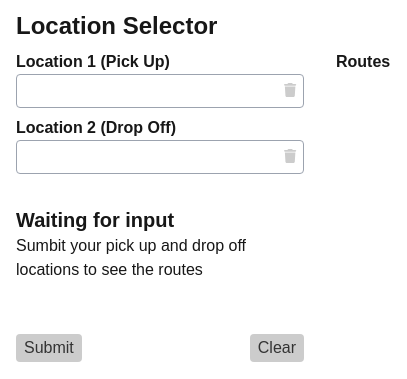
Test: Home › display info of success
Step 1. Type "Location A" into the field named "location_0" below "Location 1 (Pick Up)" → (160,91), box [16, 74, 304, 108]
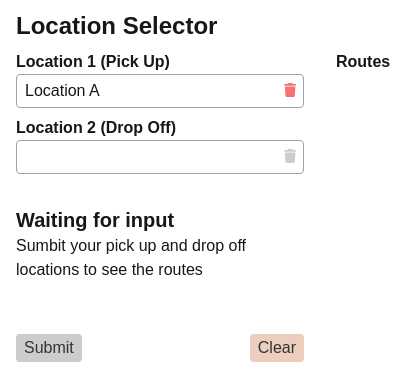
Step 2. Type "Location B" into the field named "location_1" below "Location 2 (Drop Off)" → (160,157), box [16, 140, 304, 174]
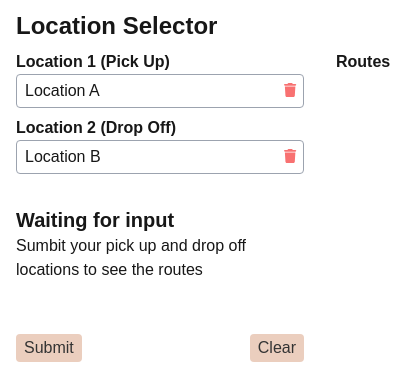
Step 3. Click the button with class "submit" → (49,348), box [16, 334, 82, 362]
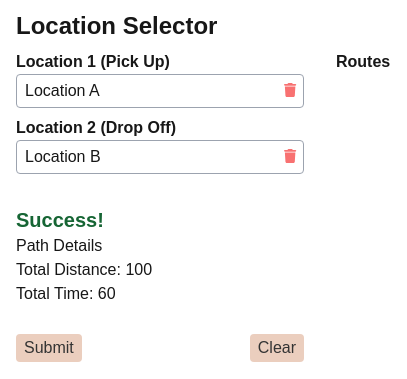
Check: the text "Path Details" is shown, box [16, 237, 102, 254]
Check: the heading "Total Distance: 100" is shown, box [16, 261, 152, 278]
Check: the heading "Total Time: 60" is shown, box [16, 285, 116, 302]
